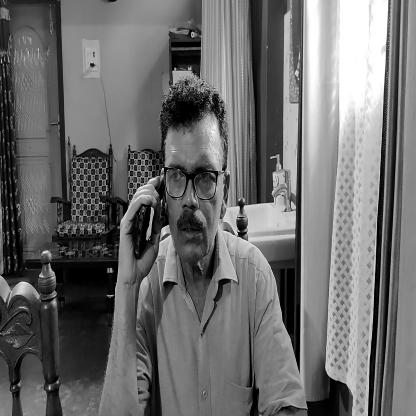Normal: (164, 90, 226, 272)
